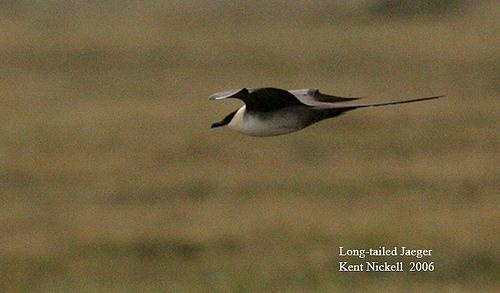bird: (205, 79, 444, 137)
